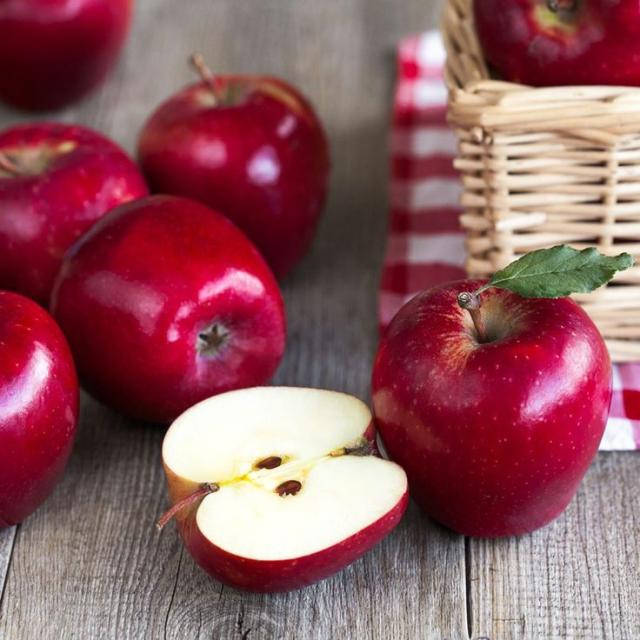apple: (373, 280, 611, 536), (52, 196, 285, 422), (159, 387, 407, 591), (139, 72, 329, 278), (0, 123, 147, 306), (0, 292, 79, 528), (0, 0, 132, 110), (474, 0, 639, 86)
